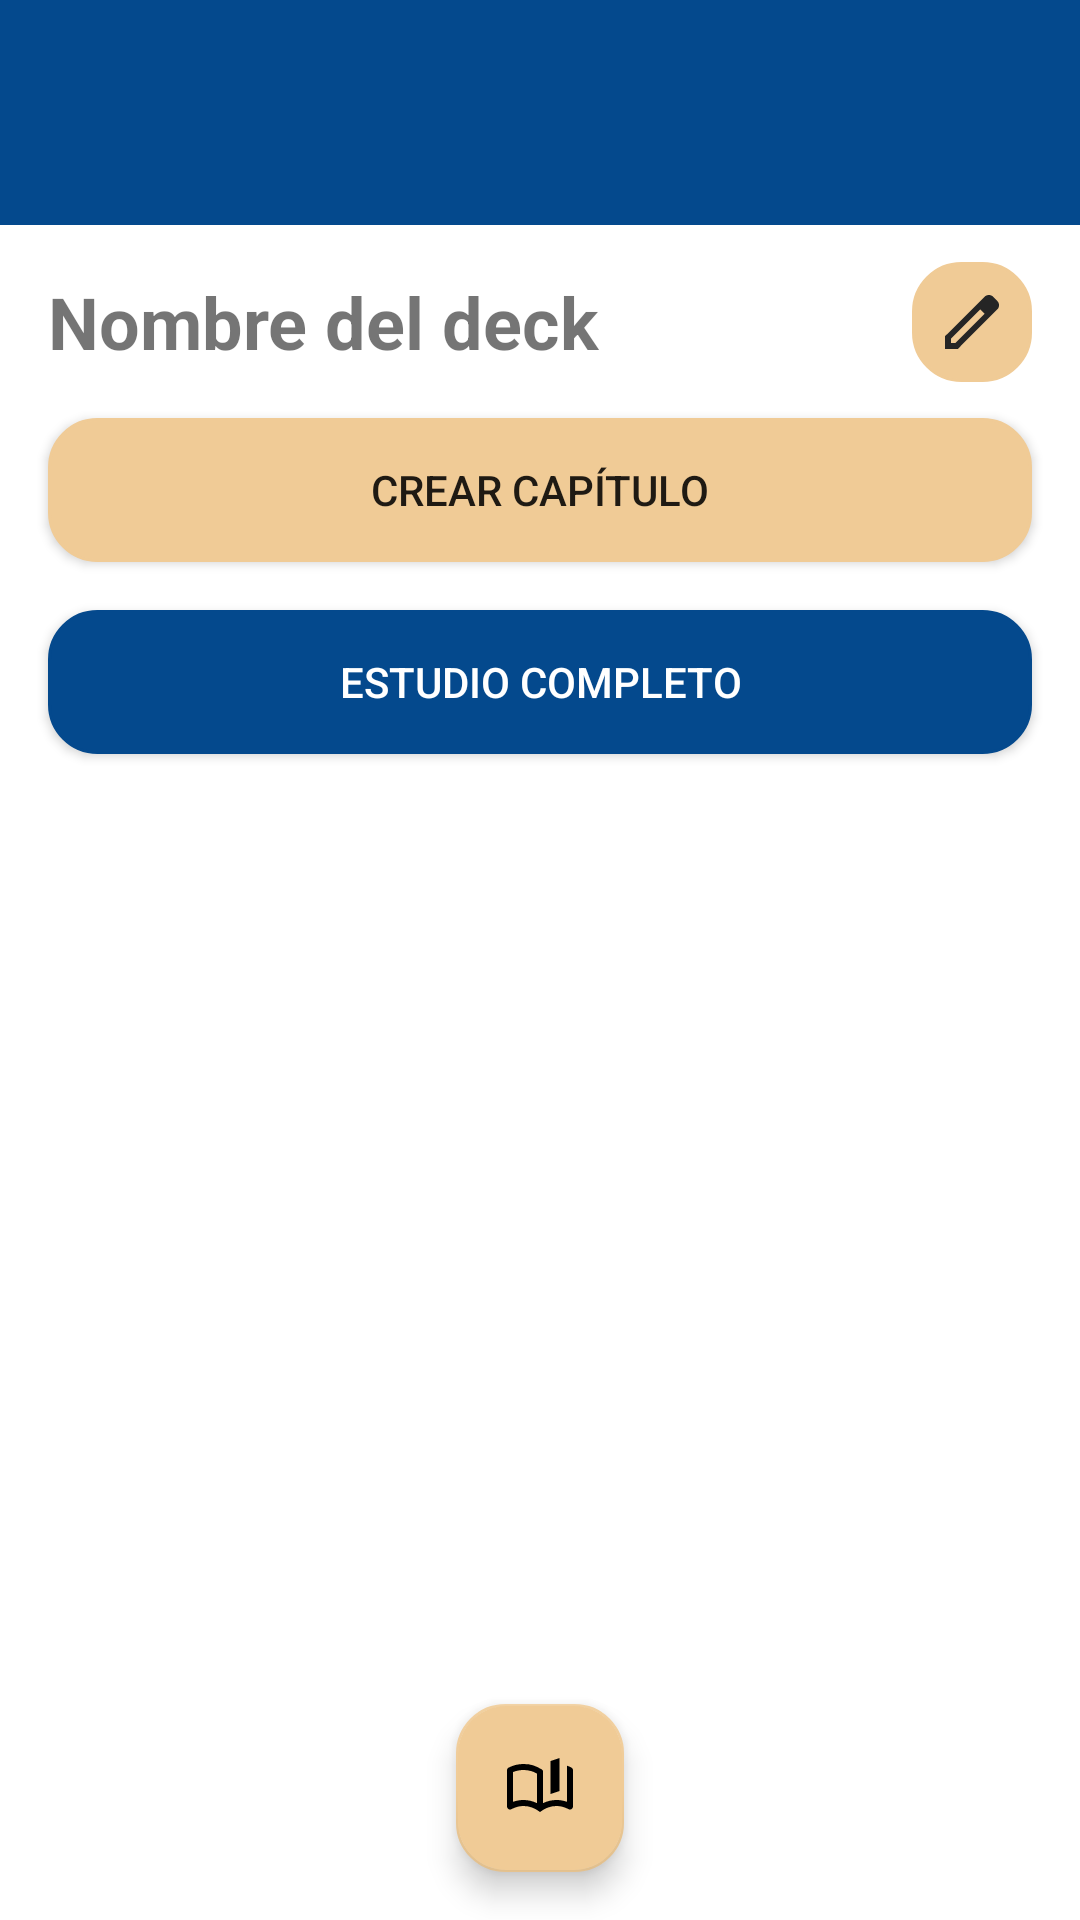

Named icons in this screenshot (1080*1920) and their bounding boxes, {"left": x1, "top": y1, "right": x2, "bottom": y2}:
Editar deck: {"left": 912, "top": 262, "right": 1032, "bottom": 382}
